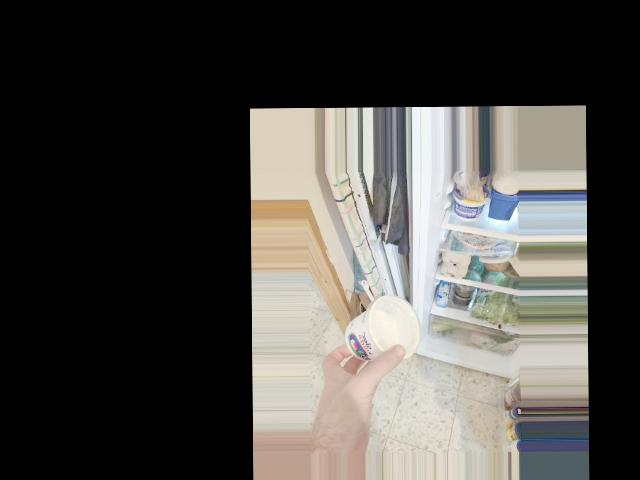cotage: (337, 292, 420, 371)
